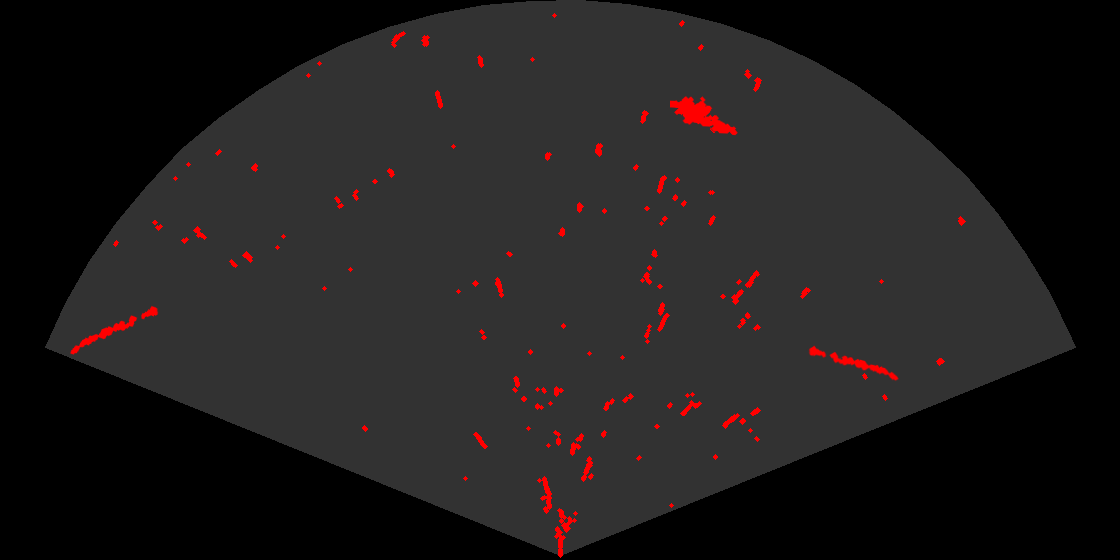chain: (69, 305, 160, 356), (806, 344, 900, 383)
frogman: (670, 95, 739, 137)
